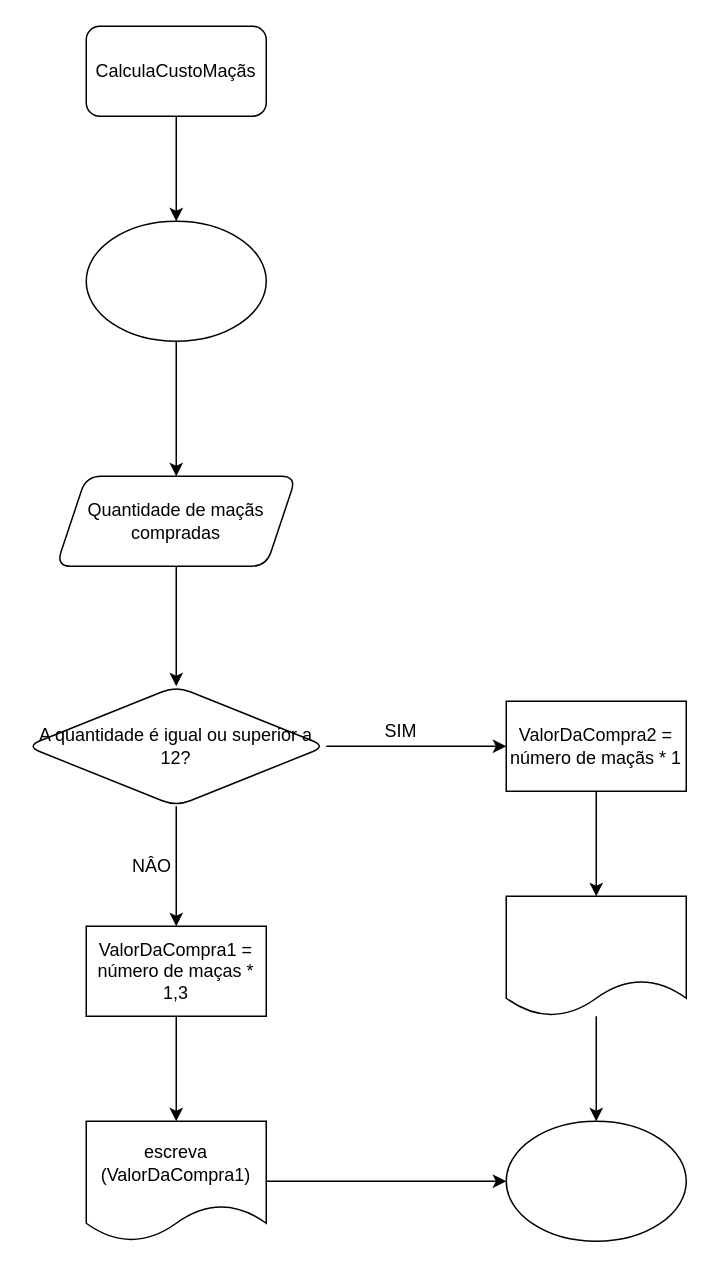
This 713x1268 diagram has some shape labels left out. Each missing label, with the centre of its shape:
escreva (ValorDaCompra2): the point at 595,955
Fim: the point at 595,1180
Início: the point at 175,280
